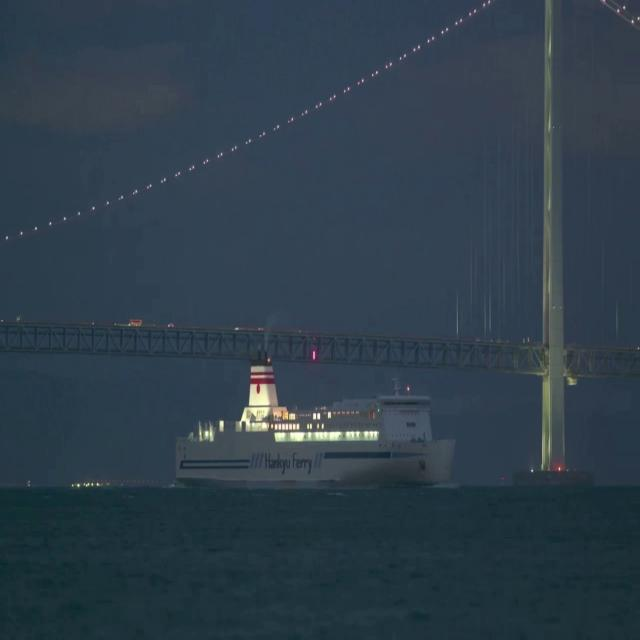OCR: (263, 443, 316, 478)
